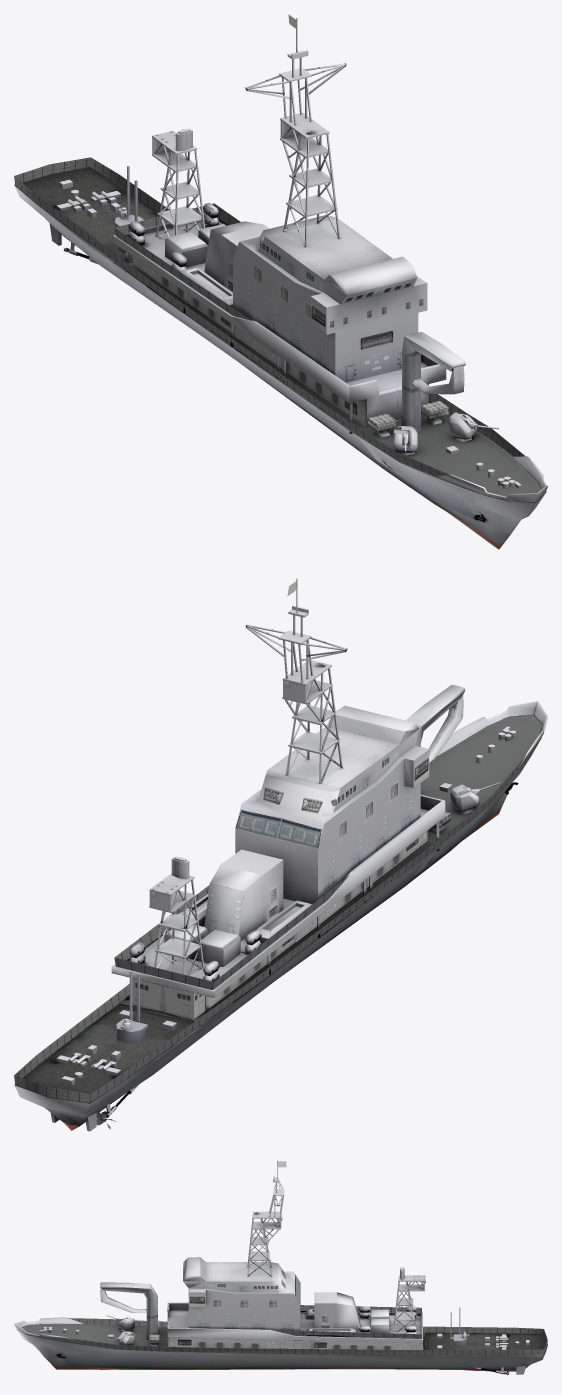
The model's file is rescueShip.glb.
3 renders of one model, top to bottom at view 1: azimuth 30°, elevation 25°; view 2: azimuth 150°, elevation 25°; view 3: azimuth 270°, elevation 25°, orthographic. The views are drawn at different scales.
Parts seen in each view (by area): view 1: mesh_________13, Default; view 2: mesh_________13, Default; view 3: mesh_________13, Default.
Boxes of the visible parts, x1,y1,x2,y2 form: mesh_________13: (14,18,547,549); Default: (14,14,525,456); mesh_________13: (14,578,547,1131); Default: (14,581,296,1078); mesh_________13: (14,1160,547,1375); Default: (69,1161,547,1341).
Size of the model in its own units: 21.61 by 78.34 by 177.
Materials: 3 (2 with a texture image).
